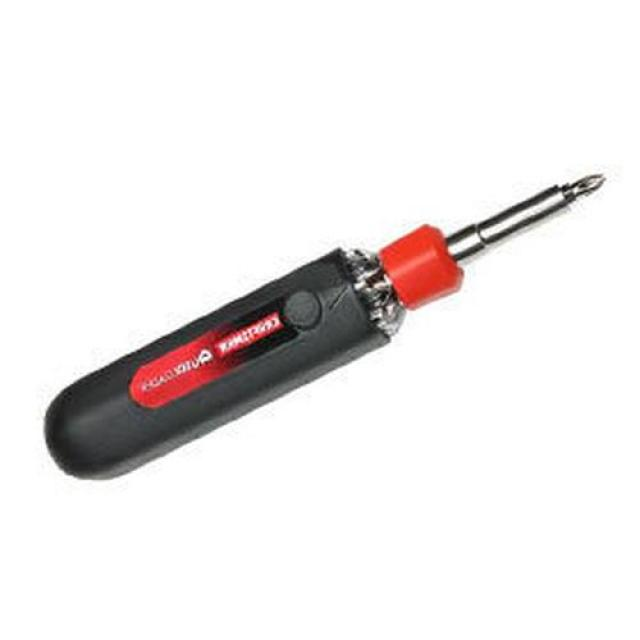screw driver: (6, 150, 640, 408)
